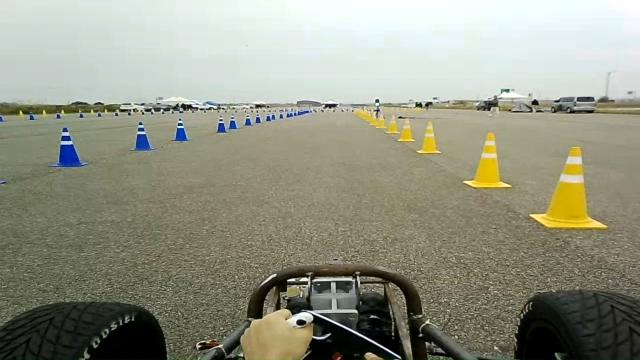blue cone: (48, 126, 88, 168), (129, 121, 156, 151), (169, 118, 192, 142), (216, 115, 228, 133), (228, 114, 239, 129), (244, 113, 252, 126), (265, 110, 273, 123), (255, 110, 262, 123), (278, 111, 285, 120), (270, 110, 275, 122)
yellow cone: (528, 146, 608, 230), (462, 132, 512, 188), (416, 120, 442, 154), (396, 118, 414, 142), (385, 114, 399, 134), (375, 113, 386, 129), (372, 112, 378, 126)
